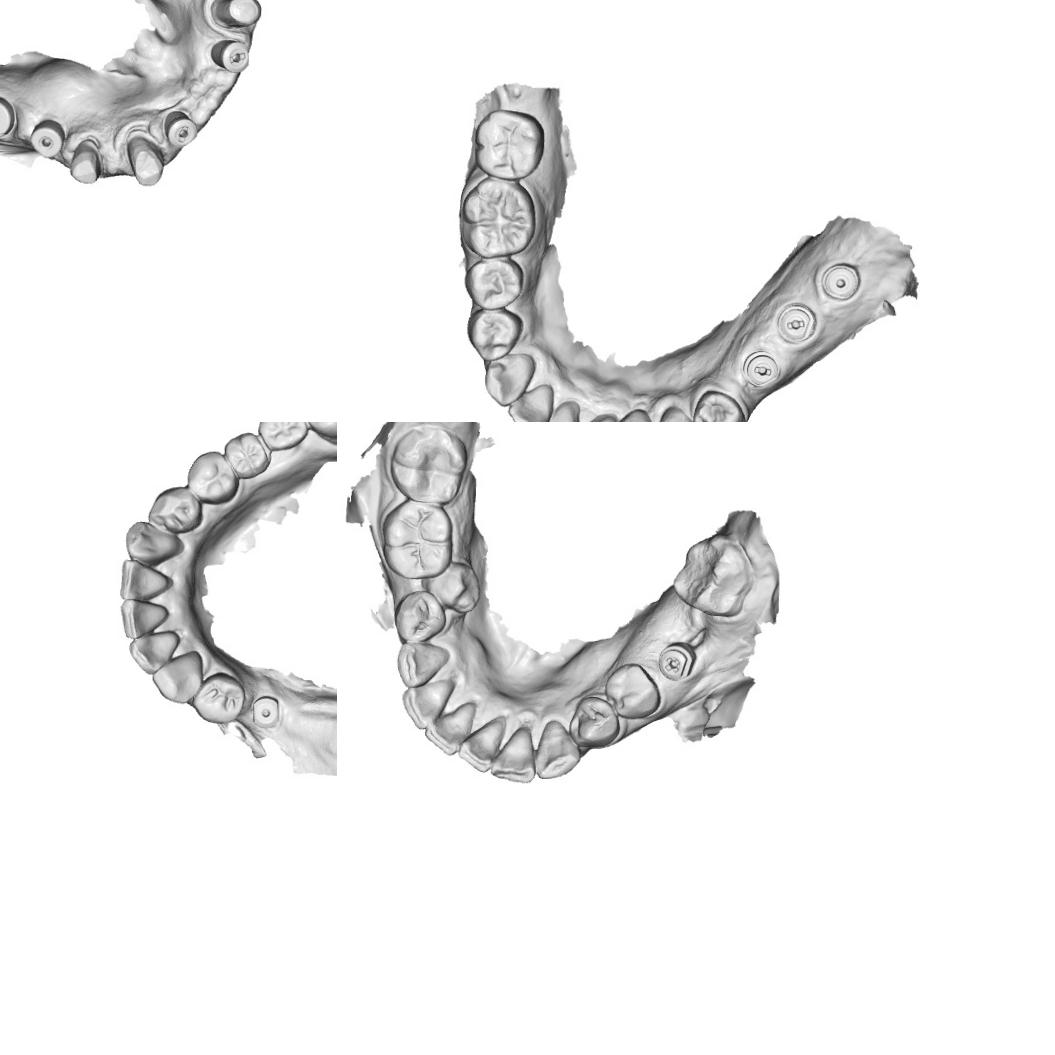canine: (482, 350, 540, 410), (531, 717, 582, 781), (149, 648, 204, 706), (123, 519, 185, 567), (392, 640, 450, 689), (653, 401, 700, 422)
crown: (122, 134, 165, 188), (68, 138, 102, 185), (210, 0, 263, 30)
implant: (822, 260, 862, 302), (28, 118, 66, 158), (250, 694, 282, 730), (0, 96, 15, 138)
implant_minus: (772, 304, 824, 346), (209, 38, 251, 75), (162, 108, 199, 148), (742, 349, 782, 386)
implant_plus: (658, 642, 698, 683)
incisor: (422, 699, 481, 757), (401, 675, 459, 732), (488, 724, 540, 786), (455, 715, 506, 774), (116, 558, 174, 601), (128, 629, 181, 676), (118, 596, 170, 641), (506, 380, 556, 422), (531, 399, 580, 422), (605, 407, 657, 422)
molar: (668, 531, 756, 620), (387, 423, 471, 507), (458, 178, 542, 260), (380, 498, 454, 581), (469, 106, 547, 182), (221, 430, 270, 481), (256, 422, 309, 451)
premolar: (419, 560, 482, 616), (603, 661, 662, 720), (462, 256, 526, 310), (190, 668, 246, 728), (464, 308, 524, 362), (391, 587, 447, 644), (185, 449, 238, 506), (567, 695, 620, 750), (146, 484, 202, 536), (693, 387, 746, 422)
